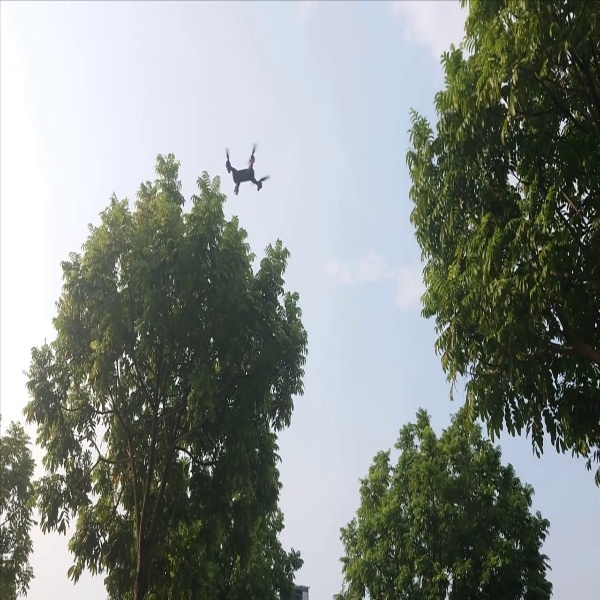drone: (219, 139, 274, 198)
